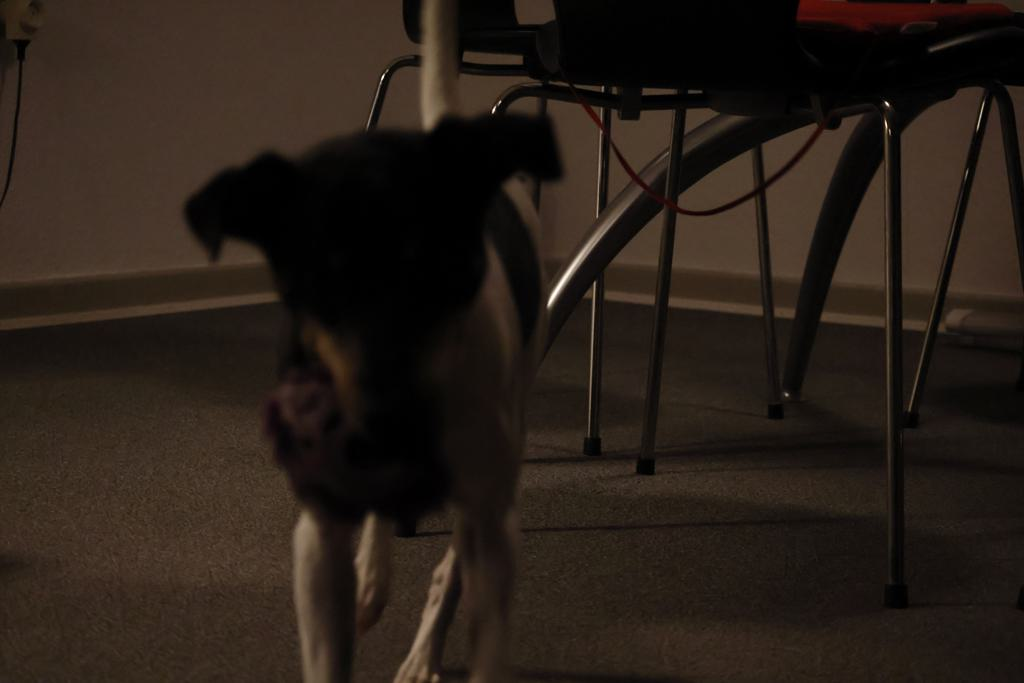Dog: (174, 0, 577, 683)
